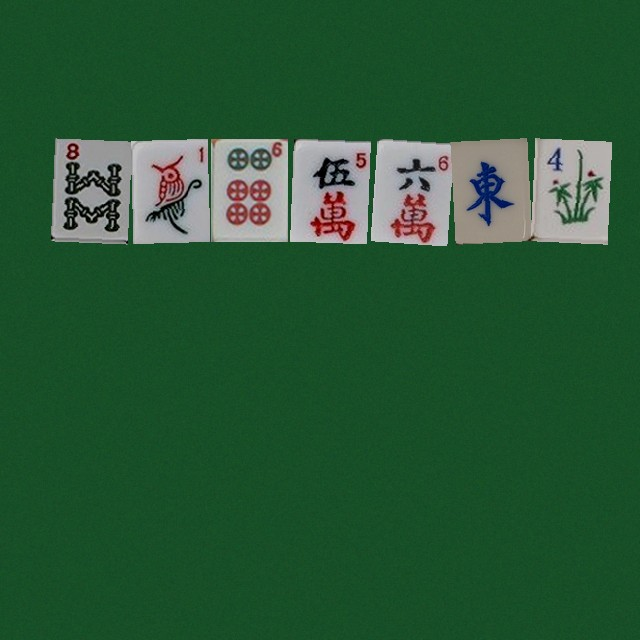tile: (50, 138, 127, 241), (130, 138, 207, 241), (210, 138, 287, 241), (290, 138, 367, 241), (370, 138, 447, 241), (450, 138, 527, 241), (530, 138, 607, 241)
